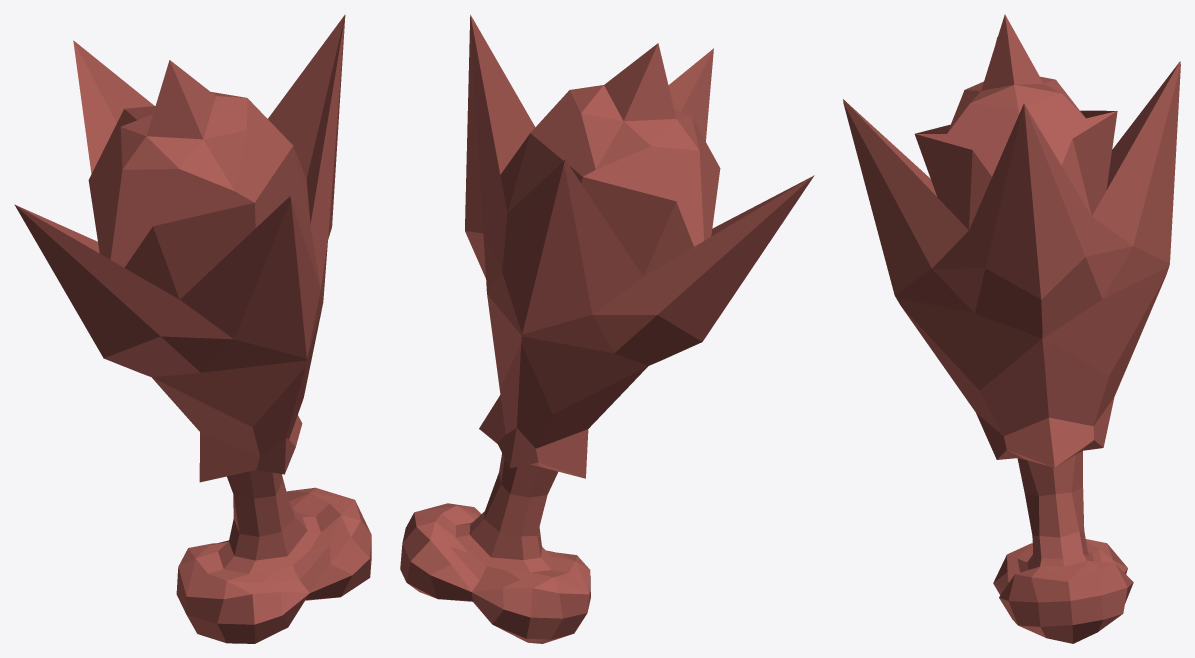
Rendered from FreshLizard.fbx.
The picture shows the model from 3 angles, left to right: view 1: azimuth 30°, elevation 25°; view 2: azimuth 150°, elevation 25°; view 3: azimuth 270°, elevation 25°; orthographic projection. The views are drawn at different scales.
Parts seen in each view (by area): view 1: Box001; view 2: Box001; view 3: Box001.
Boxes of the visible parts, box(x1,y1,x2,y2) form: Box001: box(14, 14, 371, 643); Box001: box(400, 14, 814, 643); Box001: box(843, 14, 1180, 643).
Bounding box in the file's own units: 20.27 × 31.32 × 16.9.
